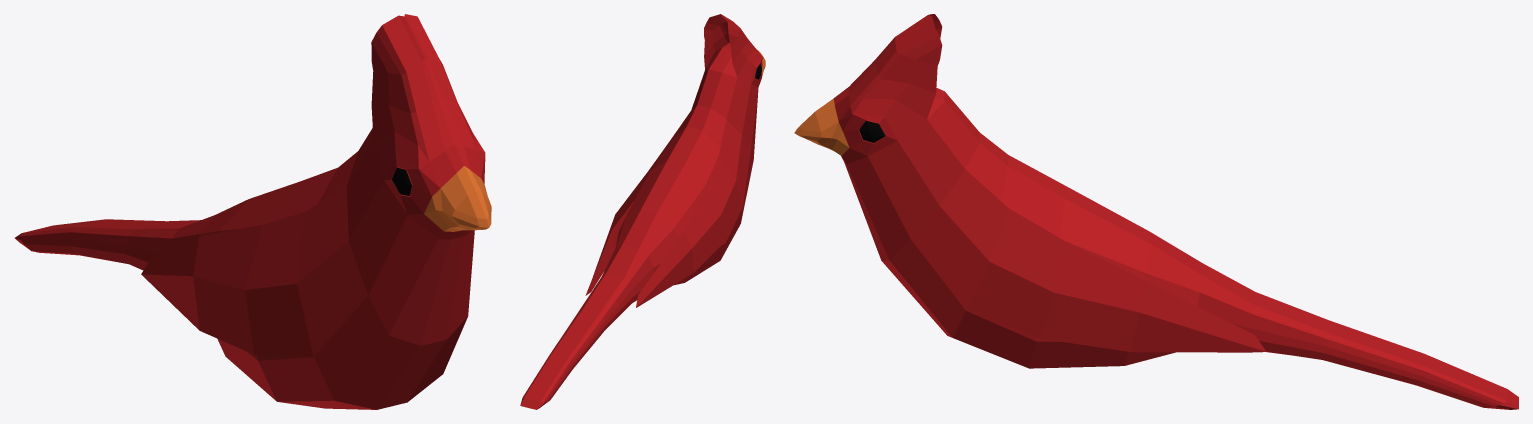
File: Cardinal.fbx
3 renders of one model, left to right at view 1: azimuth 30°, elevation 25°; view 2: azimuth 150°, elevation 25°; view 3: azimuth 270°, elevation 25°, orthographic. The views are drawn at different scales.
Visible parts, largest first — view 1: CardinalBody, CardinalWings, CardinalFluff; view 2: CardinalBody, CardinalWings, CardinalFluff; view 3: CardinalBody, CardinalWings, CardinalFluff.
Part boxes in pixels (bbox=[...]): CardinalBody: bbox=[15, 128, 491, 409]; CardinalWings: bbox=[141, 186, 367, 355]; CardinalFluff: bbox=[371, 14, 477, 161]; CardinalBody: bbox=[520, 42, 765, 409]; CardinalWings: bbox=[585, 114, 750, 307]; CardinalFluff: bbox=[704, 14, 757, 77]; CardinalBody: bbox=[794, 87, 1518, 409]; CardinalWings: bbox=[910, 169, 1266, 352]; CardinalFluff: bbox=[849, 14, 942, 118].
Size of the model in its own units: 6.67 by 19.59 by 33.08.
